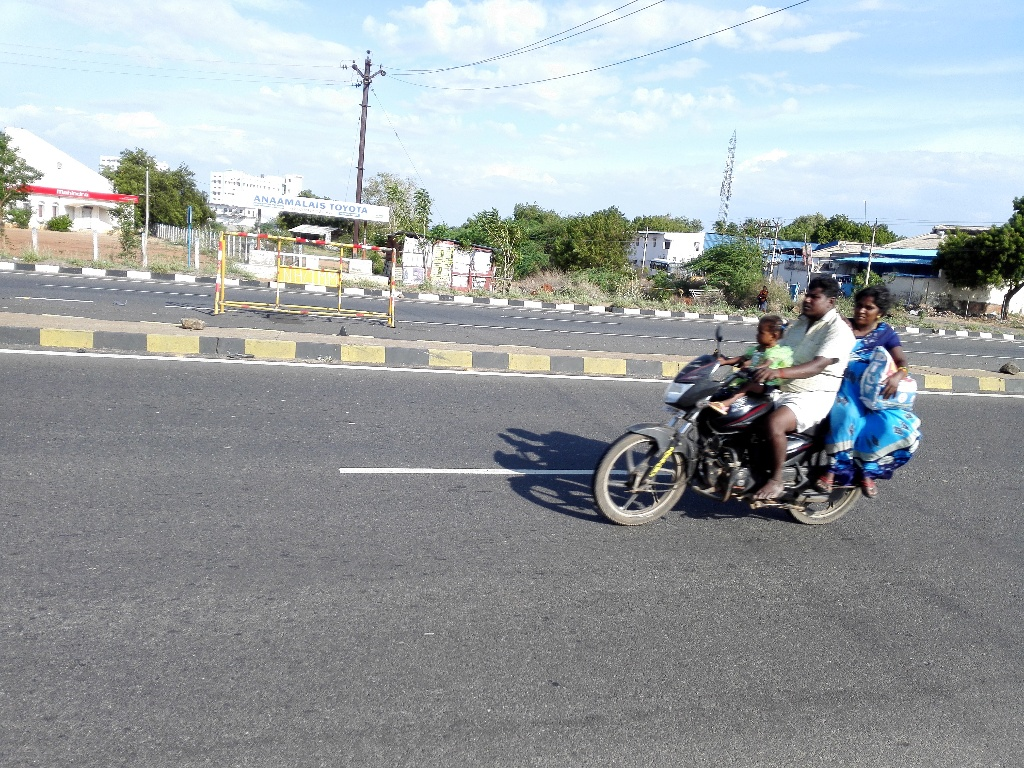biker: (565, 235, 946, 549)
nohelmet: (796, 268, 843, 331), (850, 272, 897, 335), (749, 311, 789, 354)
